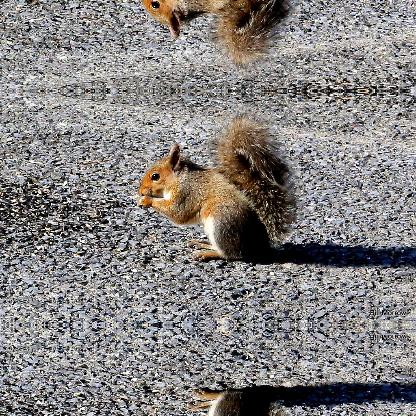Squirrel: (136, 110, 298, 262), (135, 0, 299, 72)
